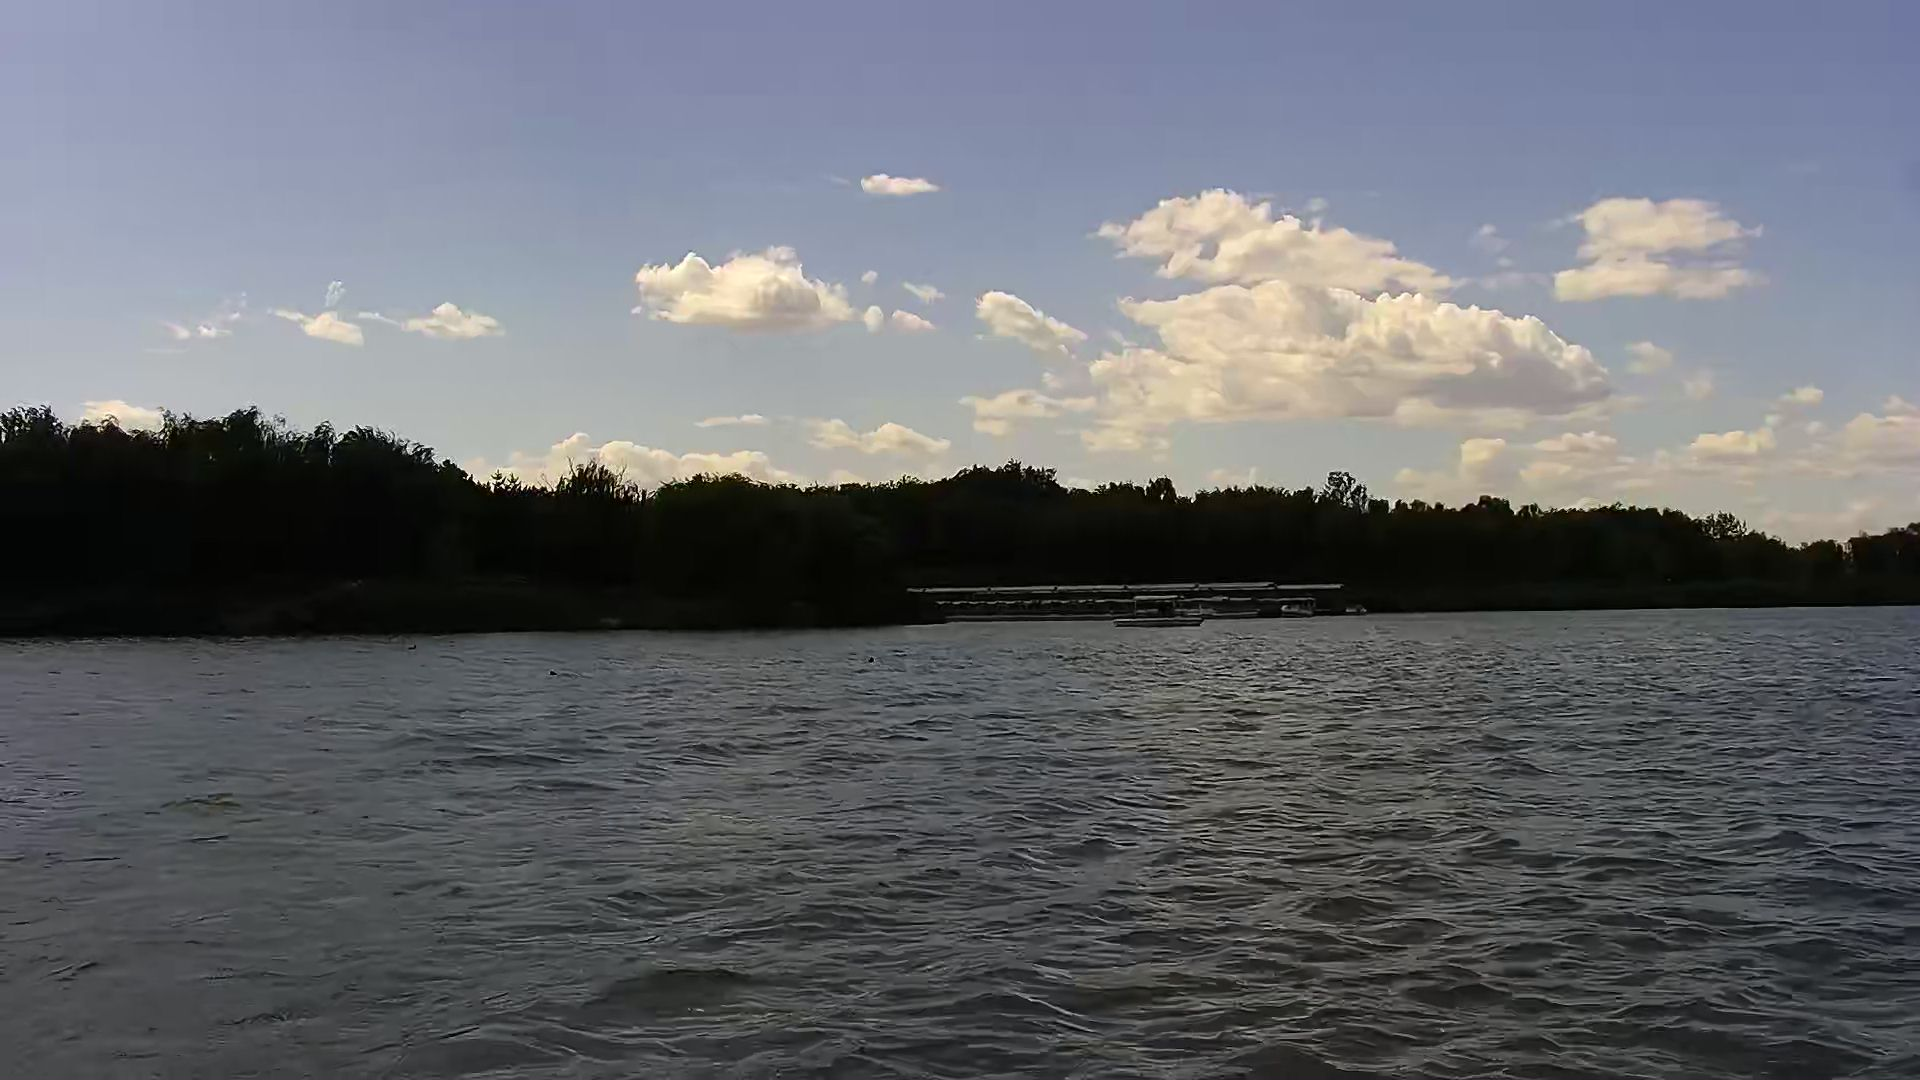boat: (1112, 591, 1215, 632)
harbor: (903, 579, 1366, 622)
